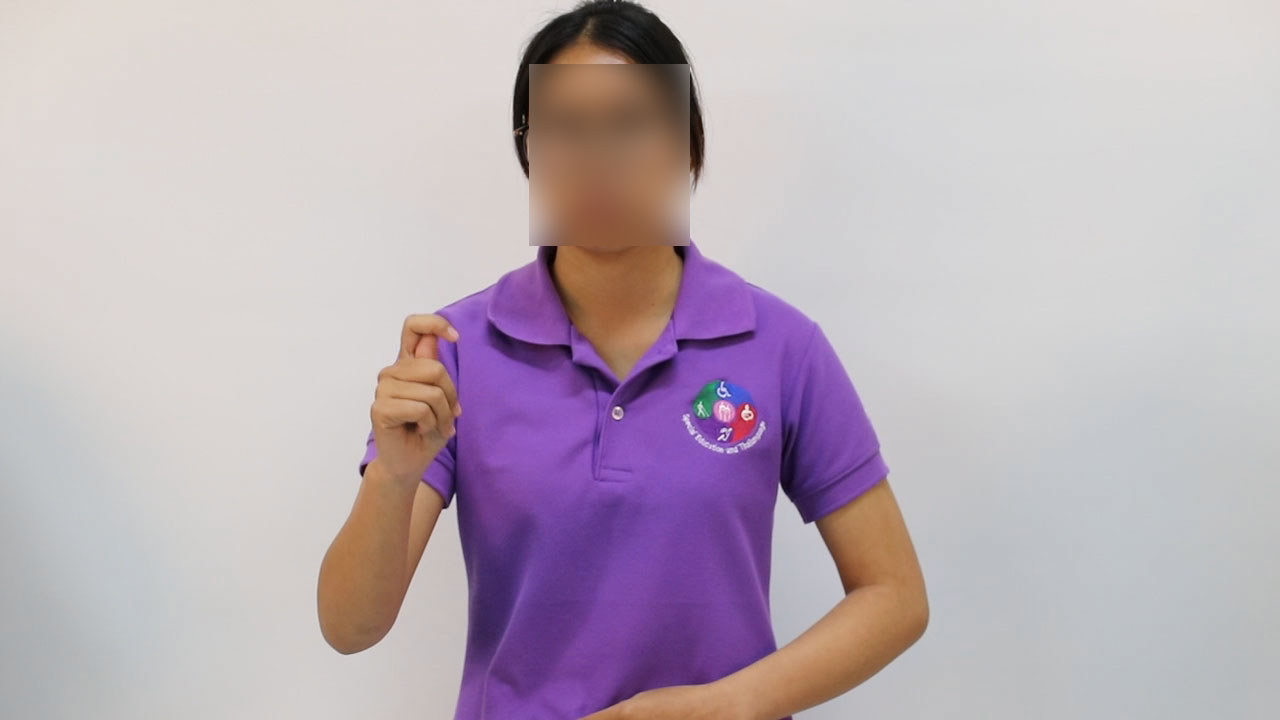or: (356, 306, 471, 491)
